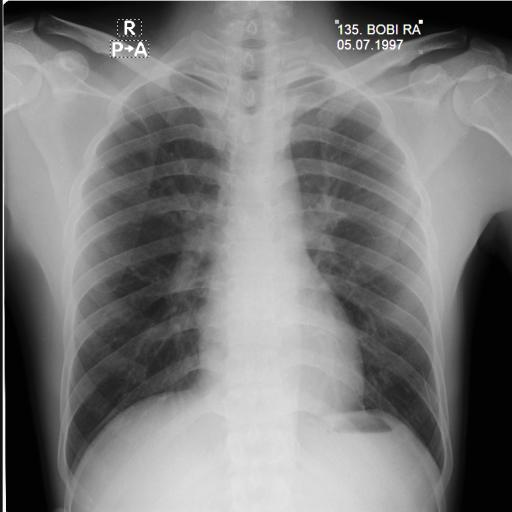normal: (42, 30, 457, 486)
